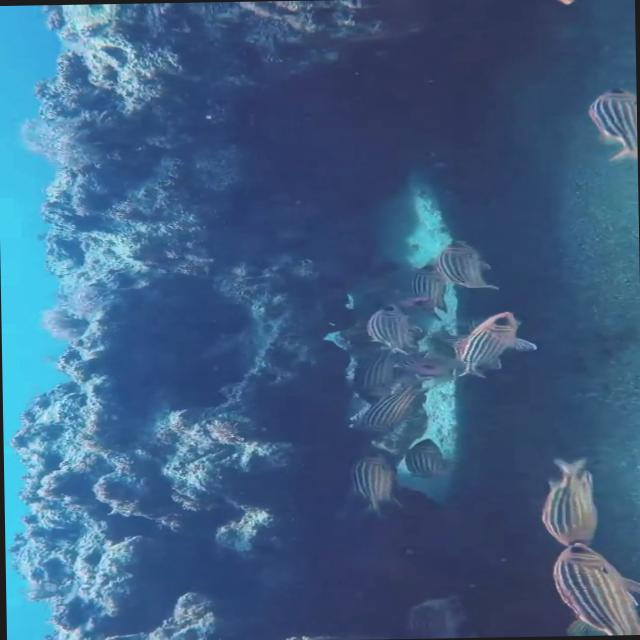Asker Baligi: (534, 546, 640, 635), (438, 298, 540, 380), (536, 454, 598, 544)
